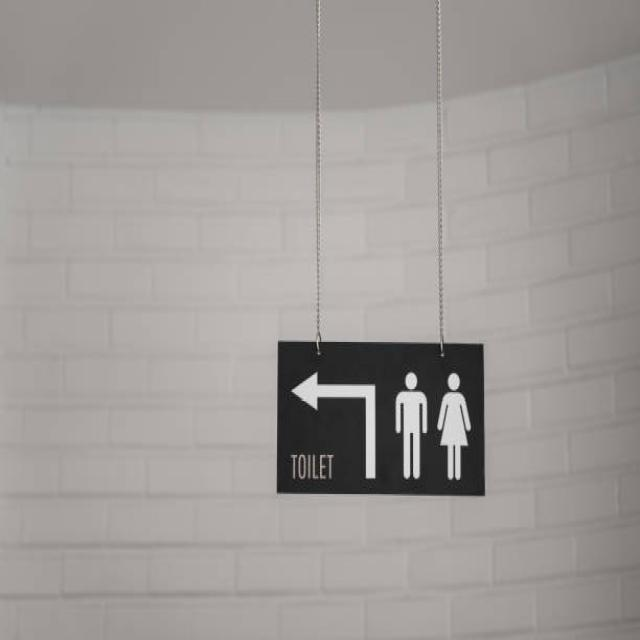toilet_icon: (388, 363, 478, 490)
